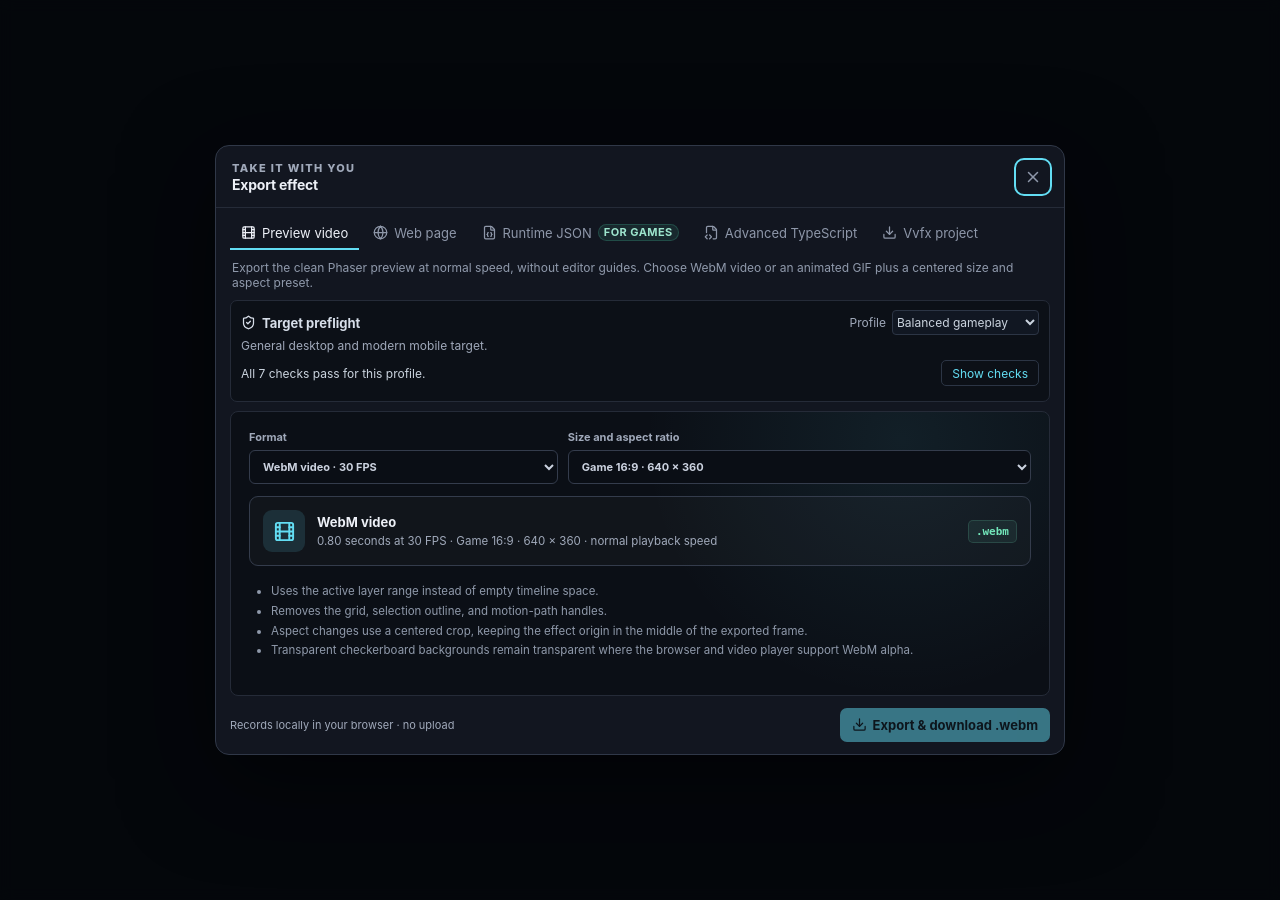
Test: ExportDialog clipboard and WebM capability state › lets Escape cancel an active preview export without closing the dialog
The width and height of the screenshot is (1280, 900).
Select "Animated GIF · 15 FPS" in the dropdown labelled "Format": (403, 467) [249,450,558,484]
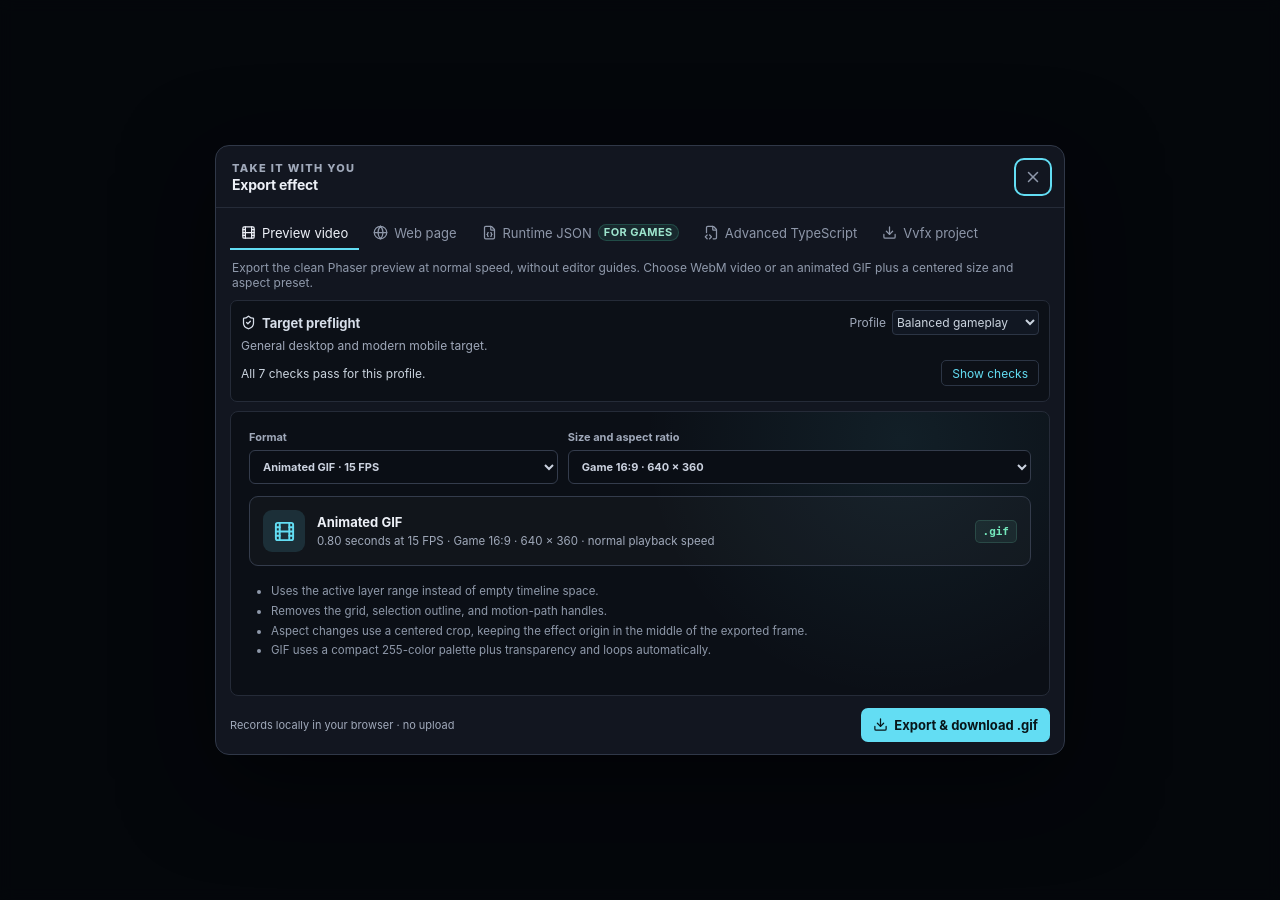
Click the button "Export & download .gif": (956, 725) [861,708,1050,742]
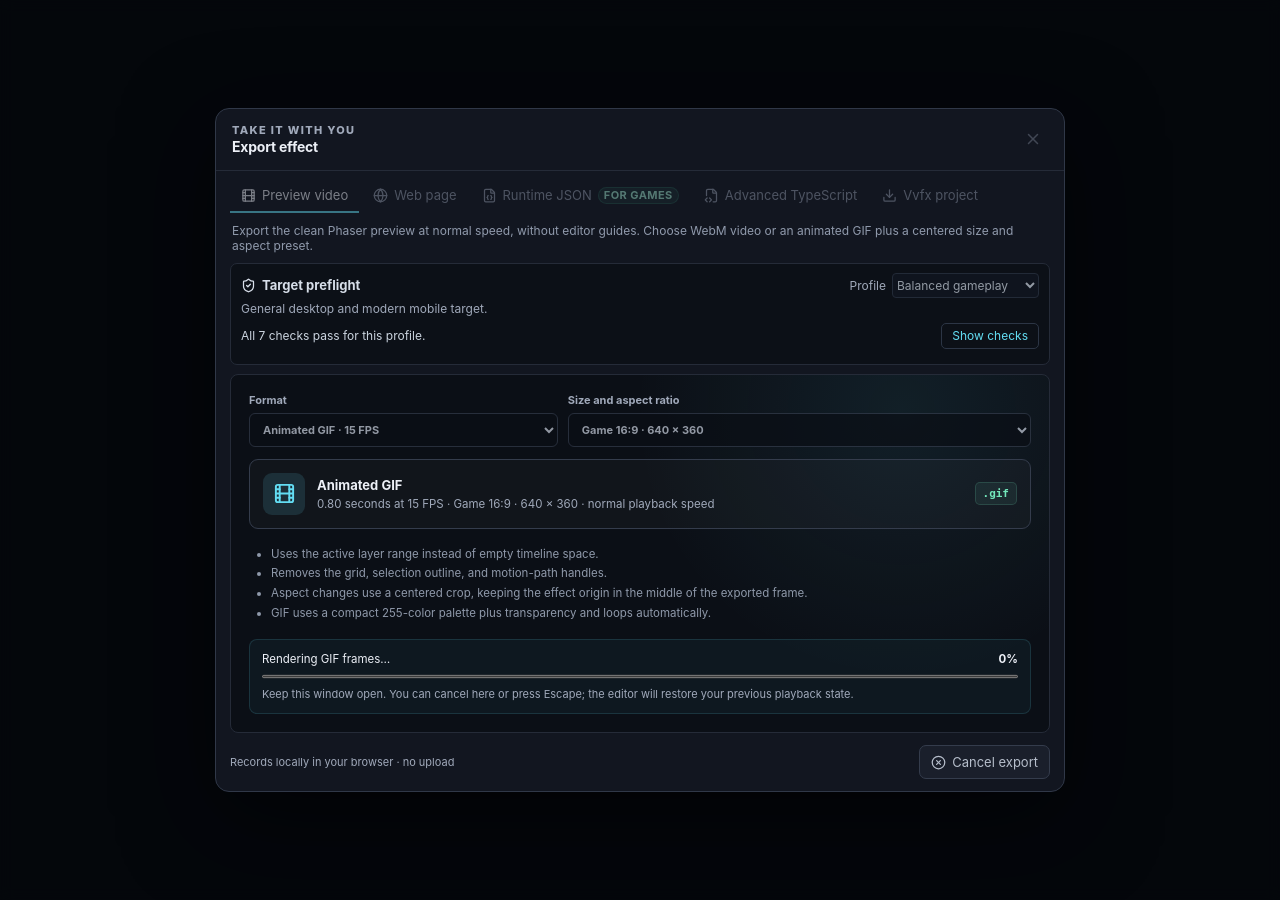
Now the button "Cancel export" is shown, box [919,745,1050,779]
Press Escape
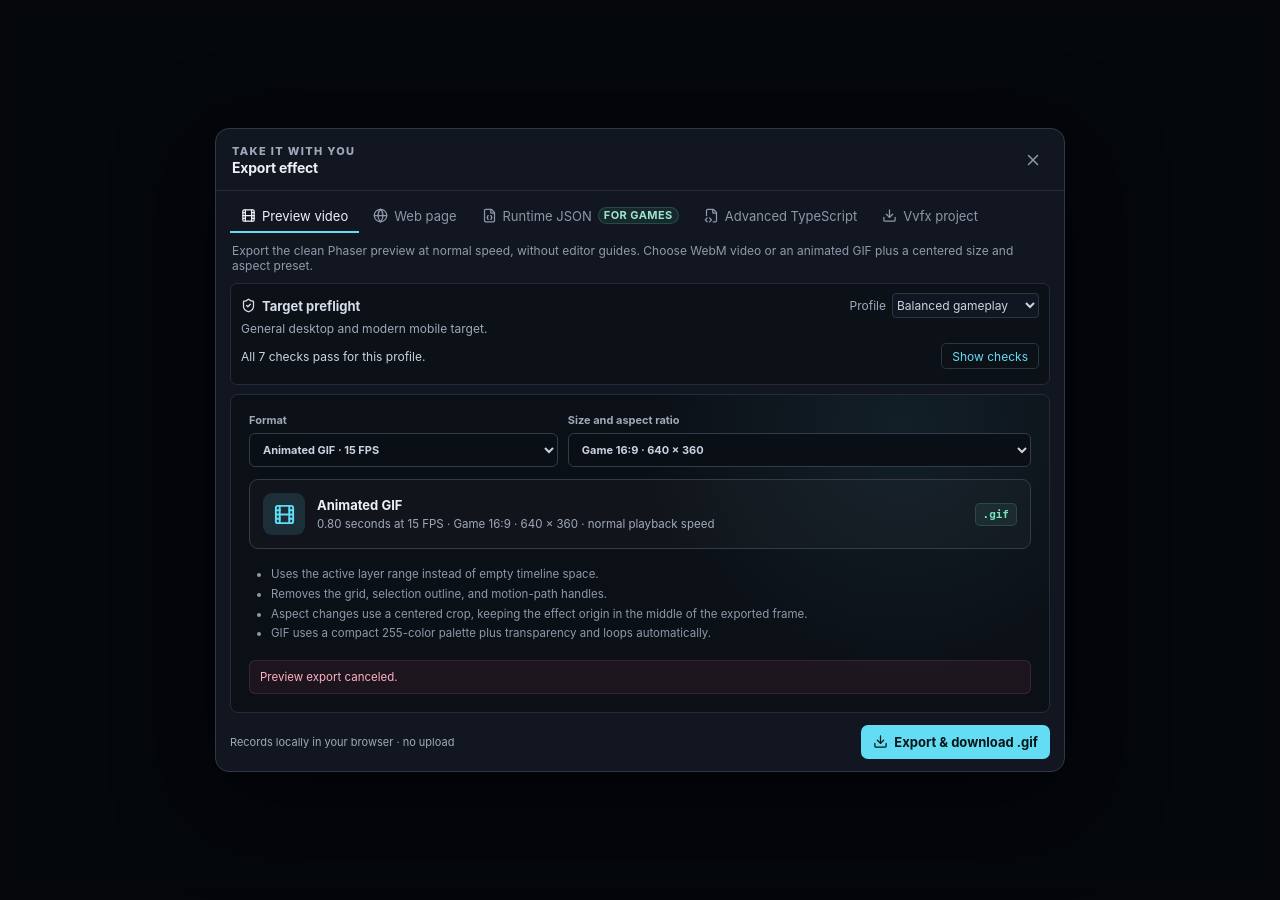
Now the message reads "Preview export canceled.", box [260,670,398,684]
